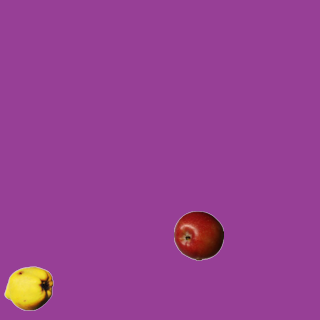Apple Braeburn: (173, 210, 223, 260)
Quince: (3, 263, 53, 313)
